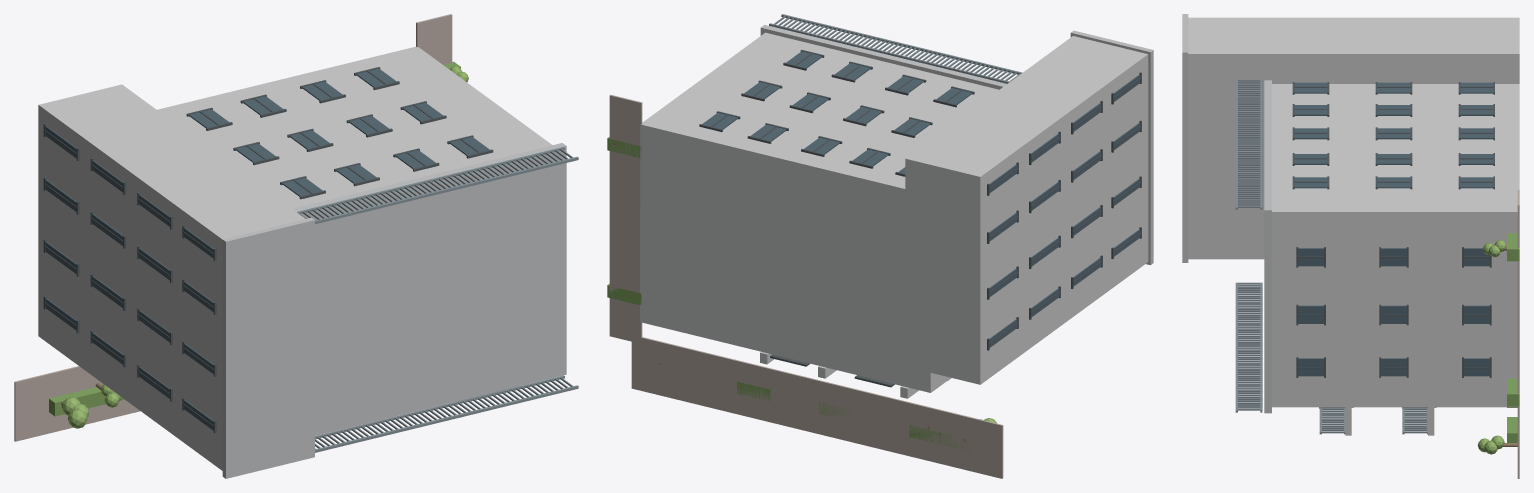
The model's file is lohas_building_reference.glb.
3 renders of one model, left to right at view 1: azimuth 30°, elevation 25°; view 2: azimuth 150°, elevation 25°; view 3: azimuth 270°, elevation 25°, orthographic. The views are drawn at different scales.
Parts seen in each view (by area): view 1: main_white_3storey; view 2: main_white_3storey; view 3: main_white_3storey.
Part boxes in pixels (box(x1,y1,x2,y2)): main_white_3storey: box(14, 14, 578, 478); main_white_3storey: box(607, 14, 1153, 478); main_white_3storey: box(1182, 14, 1519, 478).
Bounding box in the file's own units: 16.3 × 11.8 × 12.21.
